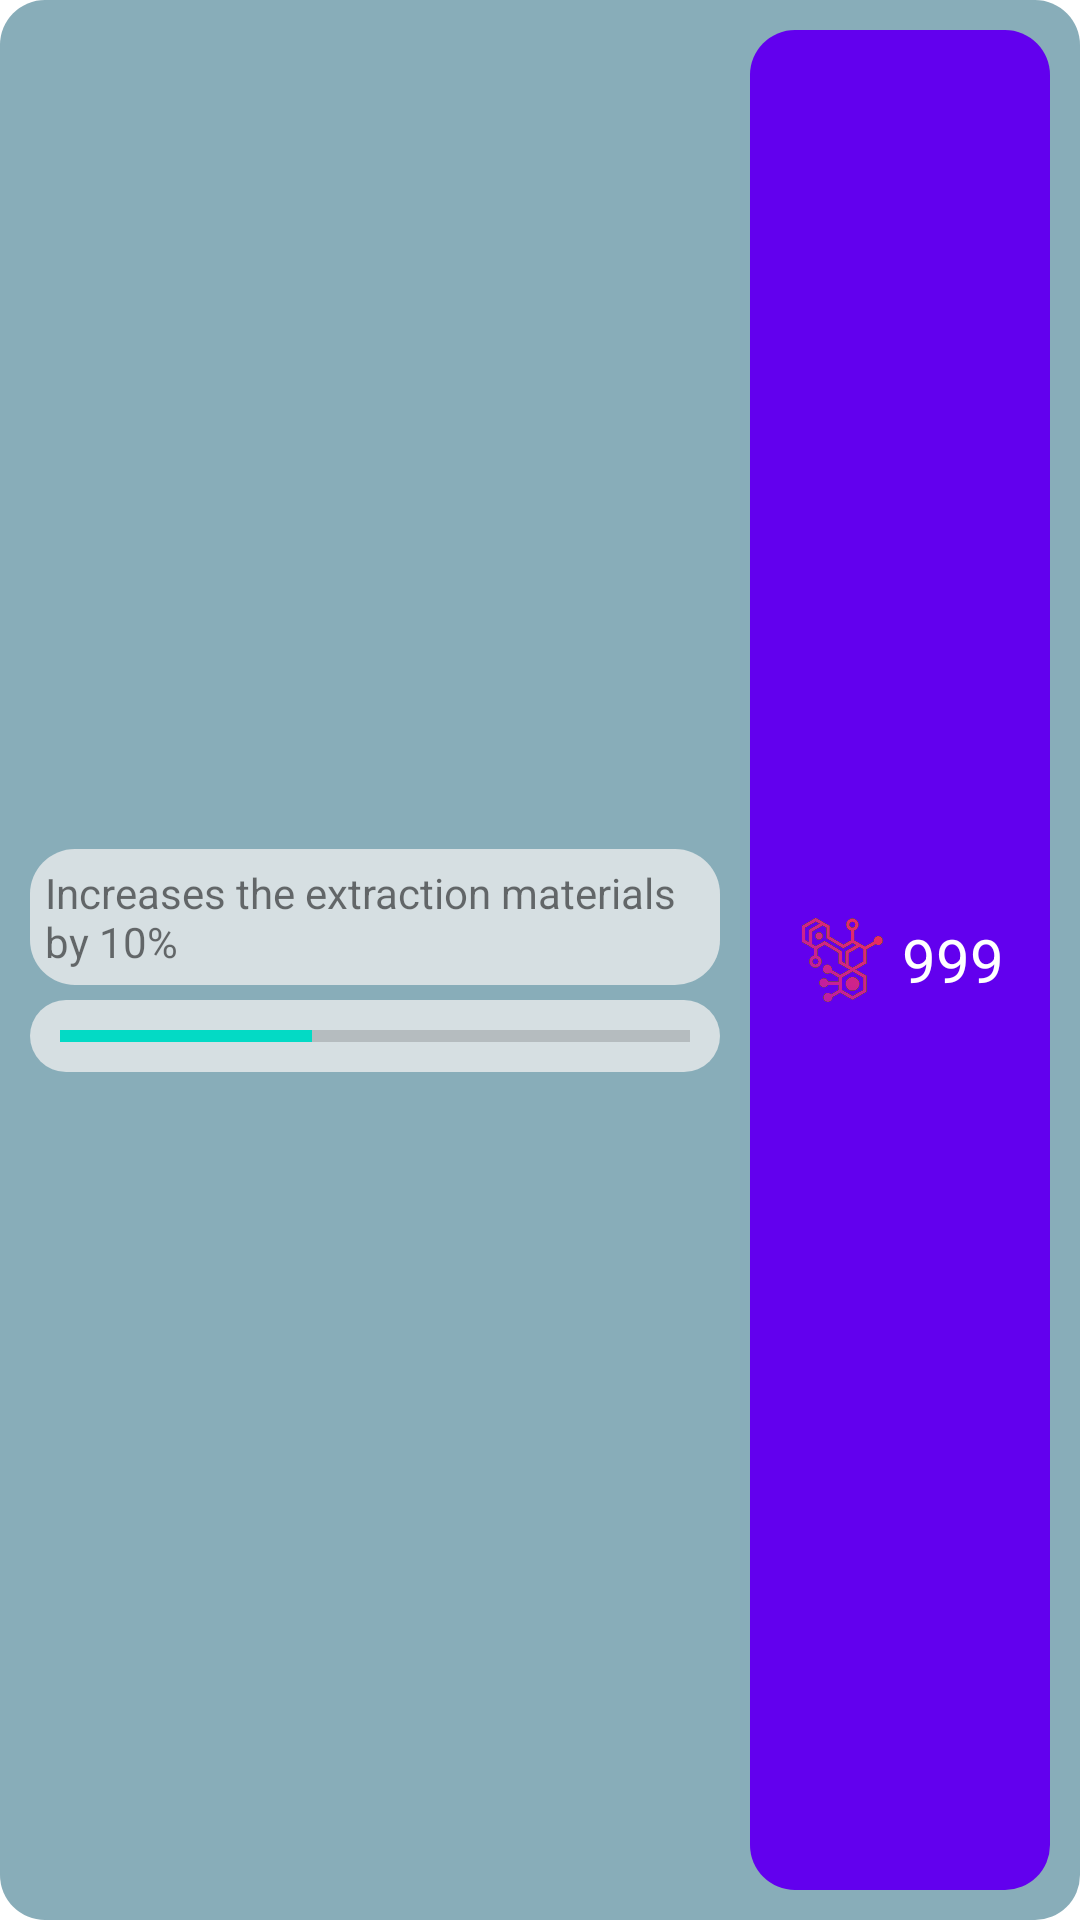

Screen size 1080px x 1920px. Icon name, then its center in pixels as [x,y]:
molecule: [842,960]
